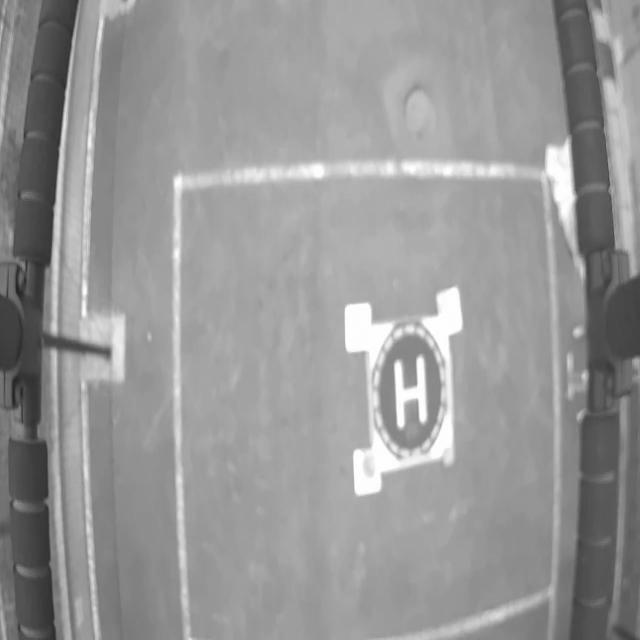Helipad: (393, 357, 427, 433)
